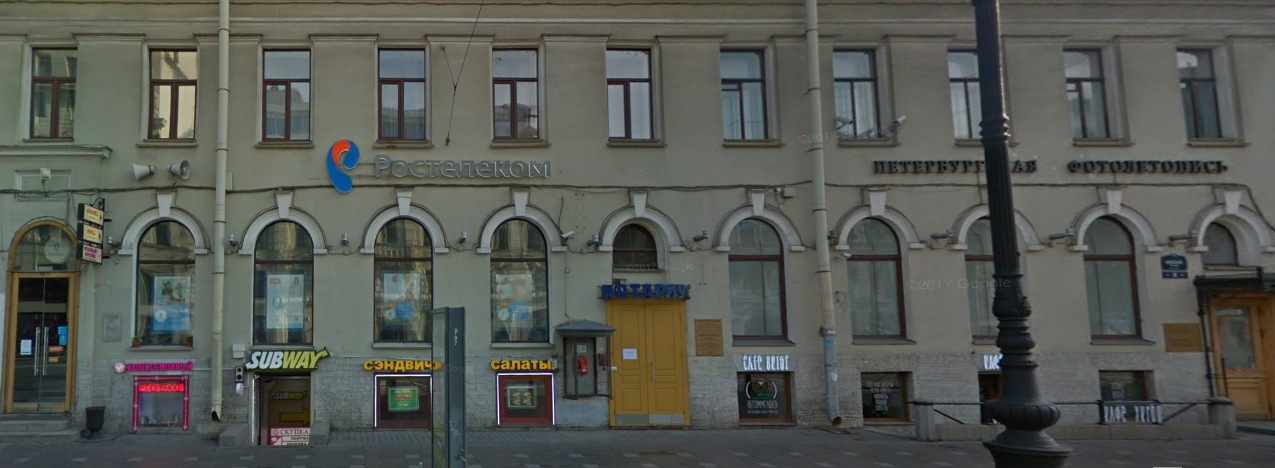cantilever: (71, 188, 118, 267)
door: (614, 301, 684, 425), (10, 273, 71, 415)
signboard: (310, 133, 554, 197), (871, 153, 1230, 185), (599, 276, 691, 302), (243, 348, 330, 373), (365, 352, 440, 375), (110, 352, 194, 371), (486, 355, 557, 375), (740, 349, 793, 371)
window: (843, 214, 908, 342), (251, 219, 316, 346), (370, 218, 433, 343), (724, 215, 786, 340), (496, 222, 553, 347), (1086, 215, 1144, 337), (138, 214, 190, 348), (829, 46, 885, 143), (376, 44, 429, 143), (719, 52, 774, 144), (1059, 49, 1115, 138), (606, 47, 656, 145), (28, 48, 80, 141), (1176, 48, 1224, 145), (147, 50, 197, 143), (491, 48, 541, 139), (265, 51, 314, 142), (951, 52, 979, 140)
